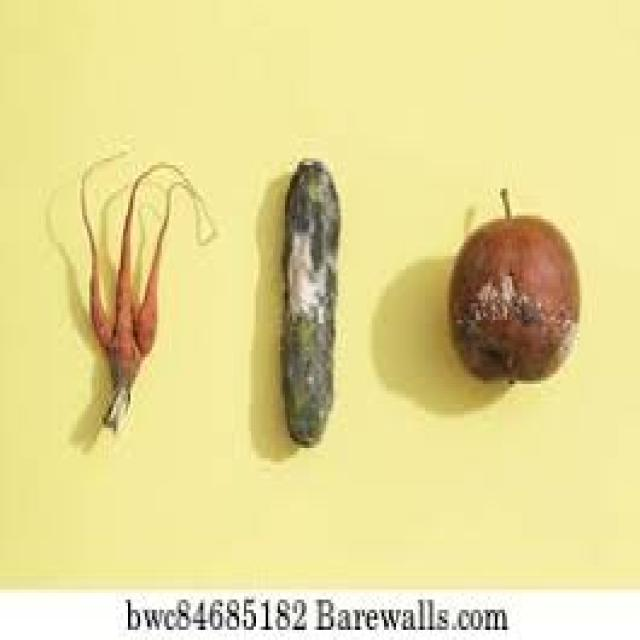Stale_Carrot: (282, 160, 340, 444)
